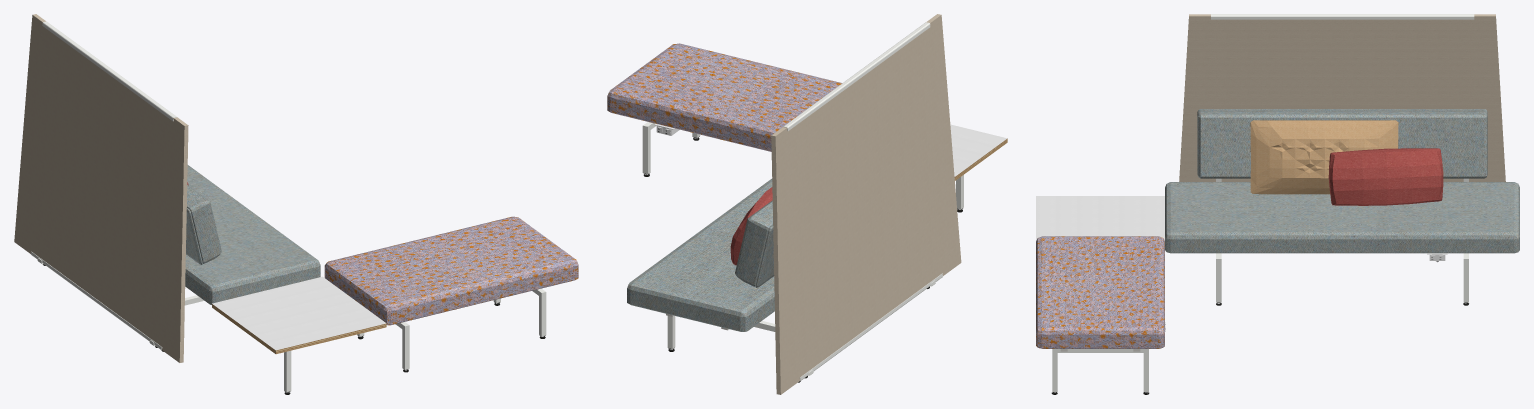
File: Collab Sofa.glb
3 views of the same model, side by side, from view 1: azimuth 30°, elevation 25°; view 2: azimuth 150°, elevation 25°; view 3: azimuth 270°, elevation 25° (orthographic). The views are drawn at different scales.
Parts seen in each view (by area): view 1: Mesh123 Group103 Group102 Group101 Group96 Group92 Group91 G, Cushion 2, Cushion, Mesh65 Group61 Group60 Group59 Group58 Group41 Group40 Group, Back cushion, Mesh127 Group111 Group110 Group109 Group108 Group96 Group92 , Mesh126 Group107 Group106 Group105 Group104 Group96 Group92 , Mesh58 Group48 Group47 Group46 Group45 Group41 Group40 Group, Mesh125 Group107 Group106 Group105 Group104 Group96 Group92 ; view 2: Mesh123 Group103 Group102 Group101 Group96 Group92 Group91 G, Cushion 2, Cushion, Back cushion, Mesh65 Group61 Group60 Group59 Group58 Group41 Group40 Group, Mesh127 Group111 Group110 Group109 Group108 Group96 Group92 , Mesh126 Group107 Group106 Group105 Group104 Group96 Group92 , Mesh129 Group121 Group120 Group119 Group118 Group117 Group11, Mesh125 Group107 Group106 Group105 Group104 Group96 Group92 , Mesh76 Group67 Group66 Group65 Group64 Group63 Group62 Compo, Mesh5 Group11 Group10 Group9 Group4 Group3 Group2 ComponentD; view 3: Mesh124 Group103 Group102 Group101 Group96 Group92 Group91 G, Cushion, Cushion 2, Back cushion, Mesh128 Group115 Group114 Group113 Group112 ComponentDefinit, Mesh129 Group121 Group120 Group119 Group118 Group117 Group11, Mesh65 Group61 Group60 Group59 Group58 Group41 Group40 Group, Mesh126 Group107 Group106 Group105 Group104 Group96 Group92 , Mesh76 Group67 Group66 Group65 Group64 Group63 Group62 Compo.
Boxes of the visible parts, x1=… form: Mesh123 Group103 Group102 Group101 Group96 Group92 Group91 G: x1=14, y1=15, x2=184, y2=362; Cushion 2: x1=324, y1=216, x2=578, y2=325; Cushion: x1=185, y1=165, x2=320, y2=304; Mesh65 Group61 Group60 Group59 Group58 Group41 Group40 Group: x1=212, y1=276, x2=386, y2=350; Back cushion: x1=186, y1=185, x2=221, y2=264; Mesh127 Group111 Group110 Group109 Group108 Group96 Group92 : x1=33, y1=14, x2=188, y2=362; Mesh126 Group107 Group106 Group105 Group104 Group96 Group92 : x1=42, y1=21, x2=176, y2=121; Mesh58 Group48 Group47 Group46 Group45 Group41 Group40 Group: x1=212, y1=304, x2=386, y2=354; Mesh125 Group107 Group106 Group105 Group104 Group96 Group92 : x1=31, y1=251, x2=162, y2=350; Mesh123 Group103 Group102 Group101 Group96 Group92 Group91 G: x1=775, y1=15, x2=961, y2=394; Cushion 2: x1=607, y1=43, x2=842, y2=151; Cushion: x1=627, y1=178, x2=774, y2=331; Back cushion: x1=735, y1=200, x2=774, y2=287; Mesh65 Group61 Group60 Group59 Group58 Group41 Group40 Group: x1=950, y1=124, x2=1006, y2=176; Mesh127 Group111 Group110 Group109 Group108 Group96 Group92 : x1=771, y1=14, x2=941, y2=394; Mesh126 Group107 Group106 Group105 Group104 Group96 Group92 : x1=783, y1=22, x2=930, y2=130; Mesh129 Group121 Group120 Group119 Group118 Group117 Group11: x1=730, y1=187, x2=772, y2=265; Mesh125 Group107 Group106 Group105 Group104 Group96 Group92 : x1=799, y1=273, x2=942, y2=380; Mesh76 Group67 Group66 Group65 Group64 Group63 Group62 Compo: x1=642, y1=122, x2=700, y2=174; Mesh5 Group11 Group10 Group9 Group4 Group3 Group2 ComponentD: x1=667, y1=315, x2=775, y2=348; Mesh124 Group103 Group102 Group101 Group96 Group92 Group91 G: x1=1179, y1=16, x2=1505, y2=181; Cushion: x1=1165, y1=182, x2=1519, y2=253; Cushion 2: x1=1036, y1=236, x2=1164, y2=348; Back cushion: x1=1197, y1=109, x2=1487, y2=178; Mesh128 Group115 Group114 Group113 Group112 ComponentDefinit: x1=1250, y1=120, x2=1398, y2=194; Mesh129 Group121 Group120 Group119 Group118 Group117 Group11: x1=1328, y1=148, x2=1443, y2=205; Mesh65 Group61 Group60 Group59 Group58 Group41 Group40 Group: x1=1036, y1=196, x2=1164, y2=240; Mesh126 Group107 Group106 Group105 Group104 Group96 Group92 : x1=1211, y1=14, x2=1474, y2=19; Mesh76 Group67 Group66 Group65 Group64 Group63 Group62 Compo: x1=1052, y1=349, x2=1148, y2=391.
Size of the model in its own units: 2.26 by 1.52 by 2.82.
Materials: 13 (11 with a texture image).
